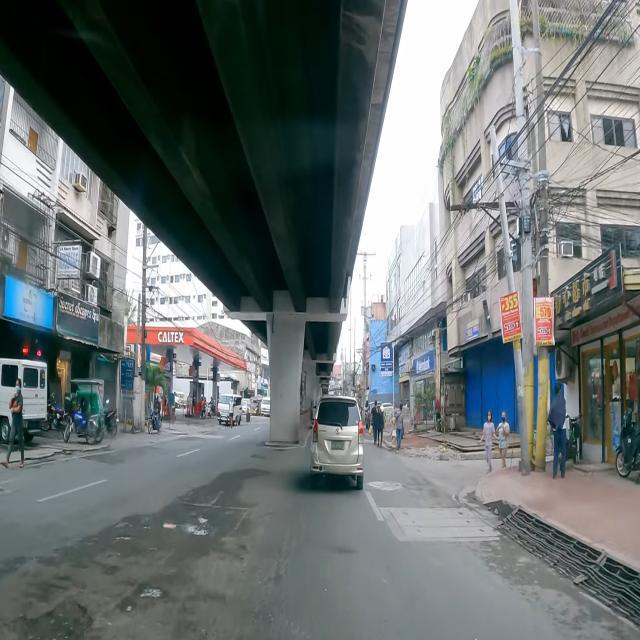car: (311, 394, 364, 488), (217, 394, 242, 426), (260, 397, 270, 417), (242, 398, 248, 415)
jeepney: (248, 396, 264, 416), (172, 389, 186, 409)
motorcycle: (615, 404, 640, 478), (42, 392, 74, 434), (565, 413, 585, 466), (147, 391, 162, 436), (102, 398, 118, 439)
tricycle: (64, 378, 105, 446)
truck: (0, 358, 47, 446)
